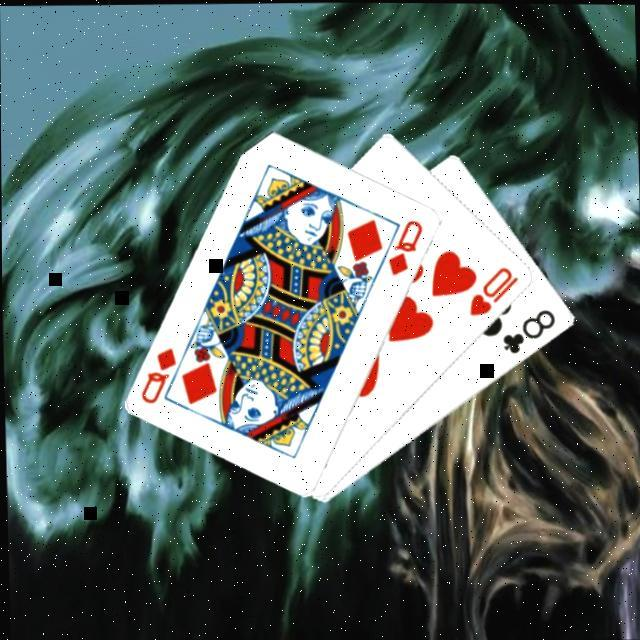10H: (464, 264, 520, 320)
8C: (497, 306, 558, 358)
QD: (383, 217, 426, 280), (136, 346, 178, 408)
